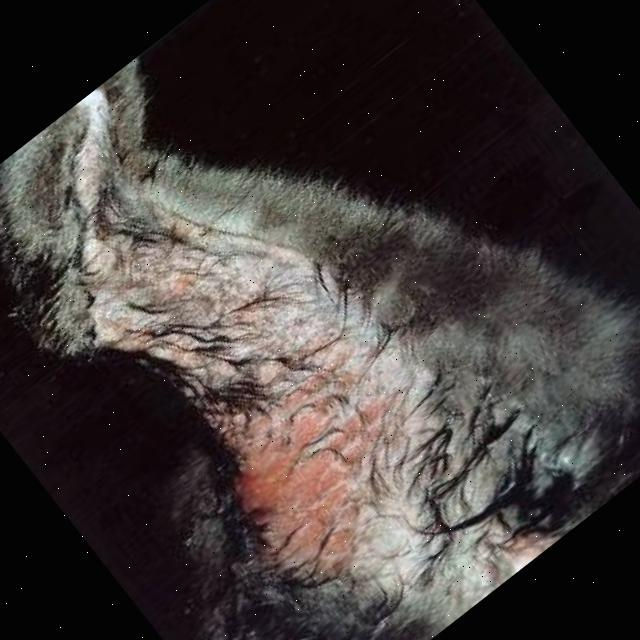cat-hairloss: (170, 314, 440, 586), (46, 208, 202, 359)
